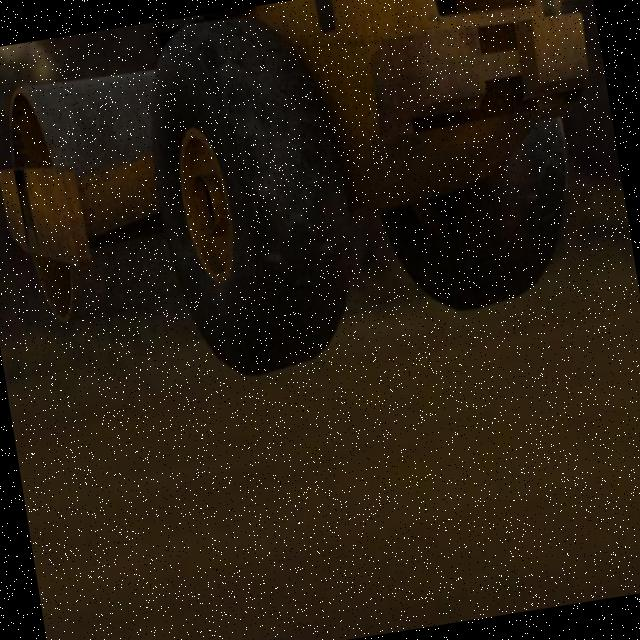Roller: (0, 0, 629, 413)
